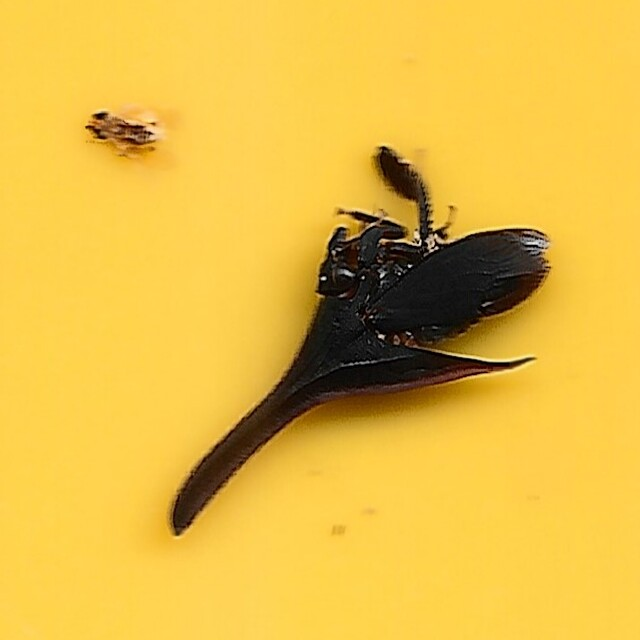Hemiptera: (173, 143, 550, 535), (90, 105, 179, 169)
